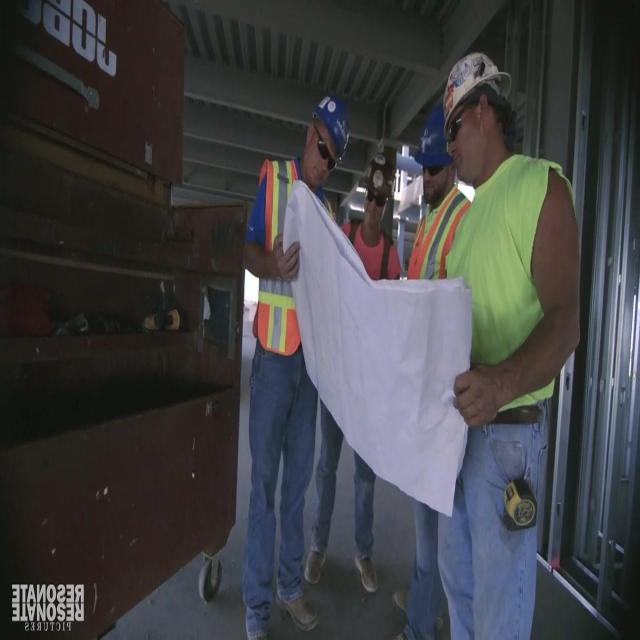Reflective-Jacket: (245, 154, 337, 366), (405, 186, 477, 289)
Safety-Helmet: (436, 42, 516, 132), (301, 82, 355, 170), (406, 100, 460, 178), (358, 151, 396, 207)
